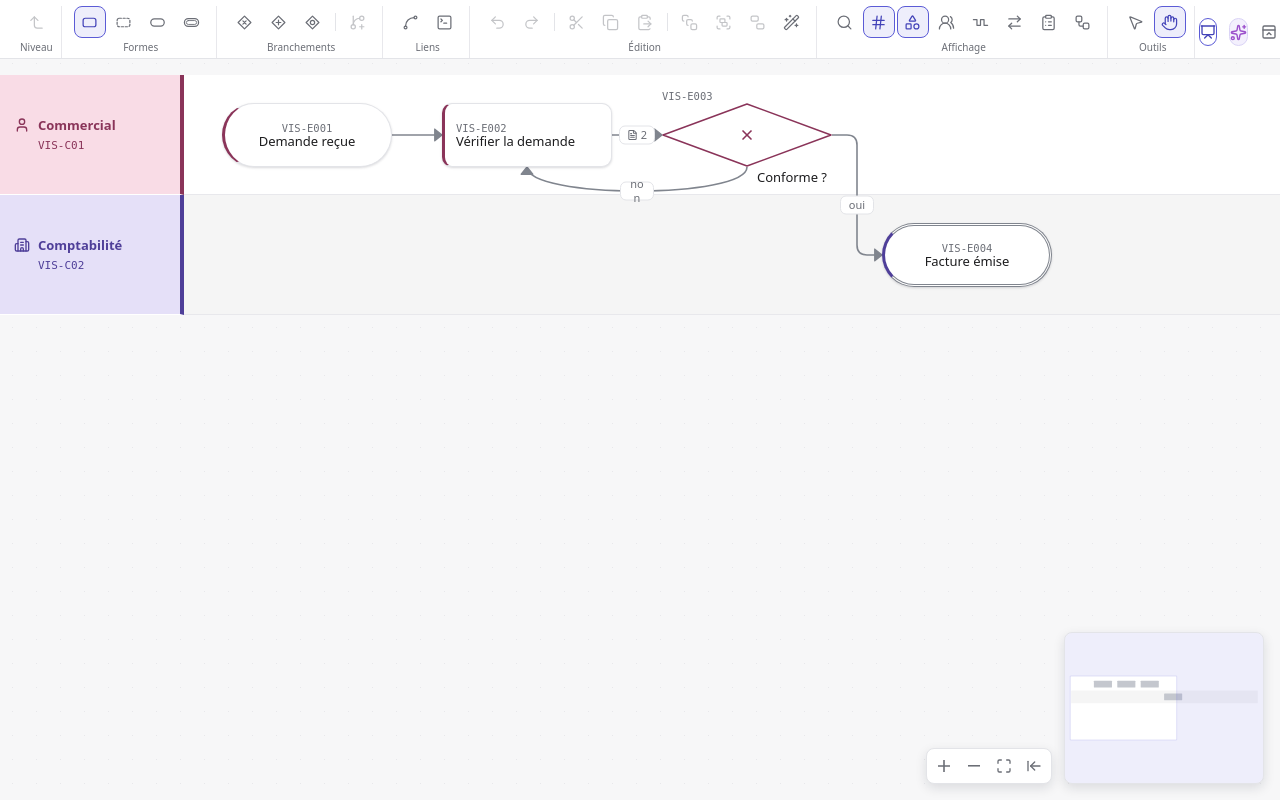
Test: the keys and the controls of a presentation (ADR 097) › goes to the stop of a chapter clicked, its chapter marked as shown, the count of the steps beside
This screenshot has width=1280, height=800.
Press F5
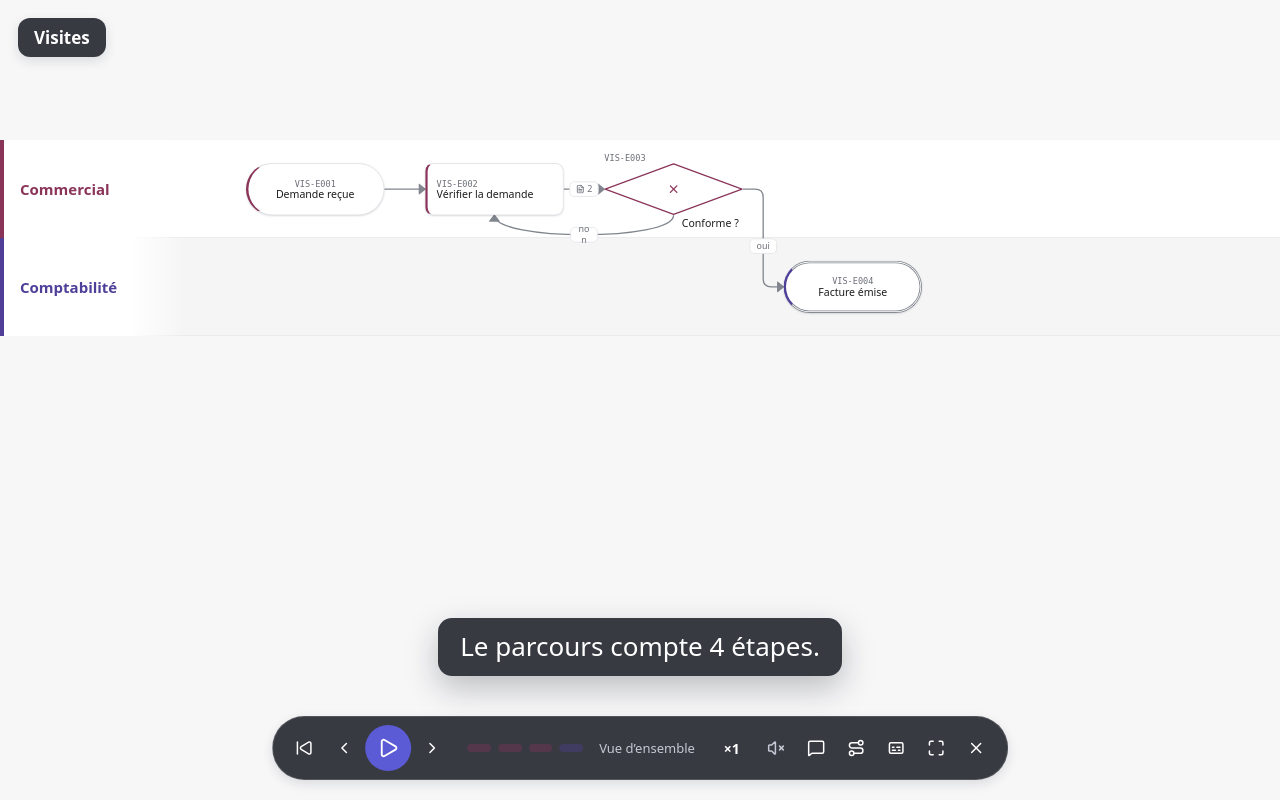
Press Space
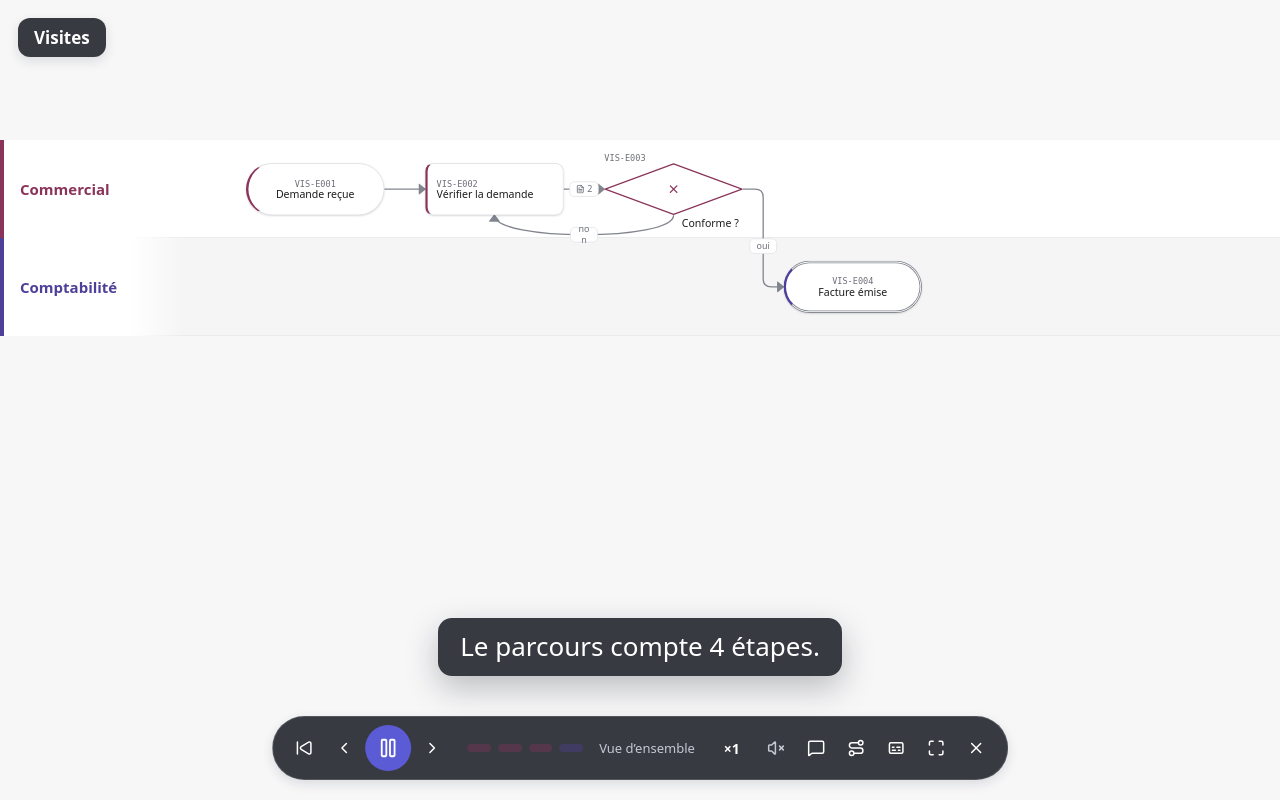
Click the button with test id "presenter-chapter-2" at (541, 748), box [527, 736, 554, 760]
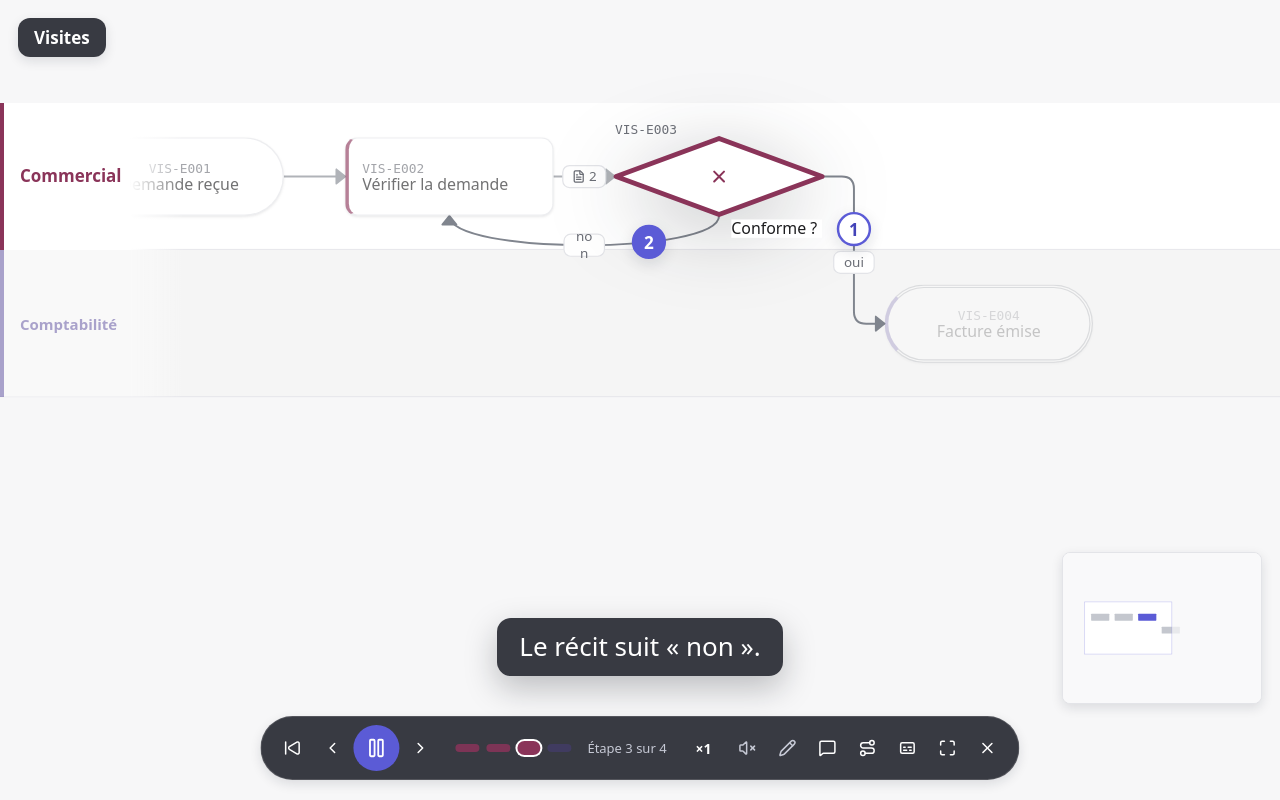
Now the text with test id "presenter-progress" reads "Étape 3 sur 4", box [587, 739, 667, 757]
